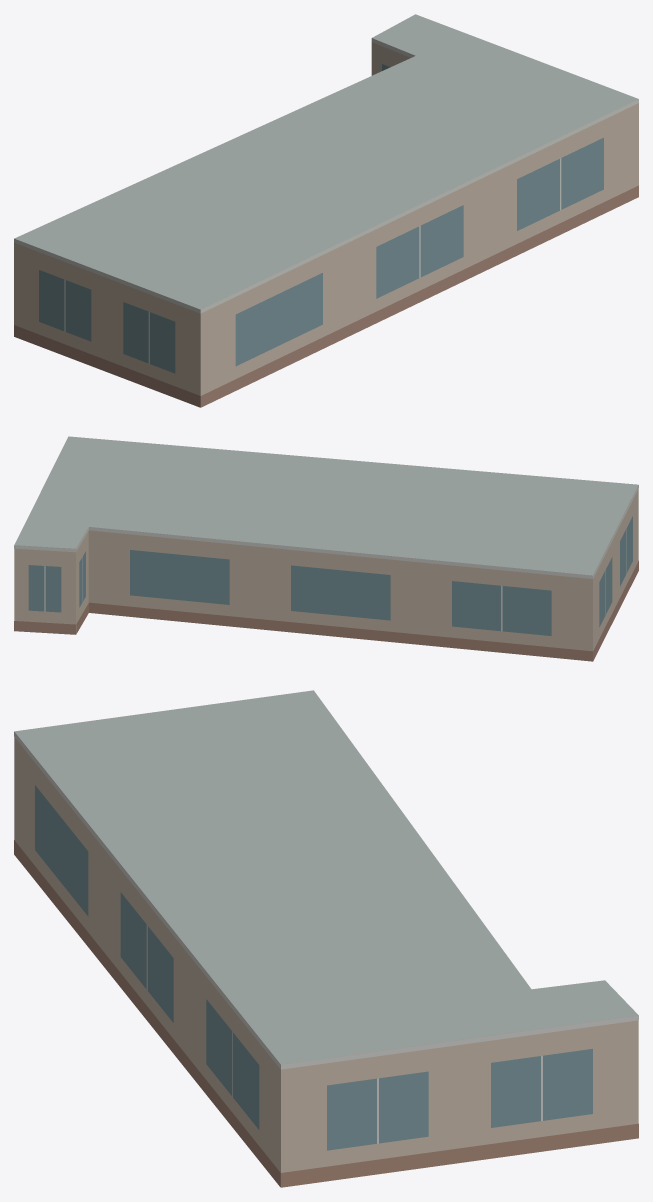
The model's file is survey-upis-32764781.glb.
3 renders of one model, top to bottom at view 1: azimuth 30°, elevation 25°; view 2: azimuth 150°, elevation 25°; view 3: azimuth 270°, elevation 25°, orthographic. The views are drawn at different scales.
Parts seen in each view (by area): view 1: survey-upis-32764781.tmp; view 2: survey-upis-32764781.tmp; view 3: survey-upis-32764781.tmp.
Part boxes in pixels (<box>): survey-upis-32764781.tmp: <box>14,14,638,407</box>; survey-upis-32764781.tmp: <box>14,436,638,661</box>; survey-upis-32764781.tmp: <box>14,690,638,1187</box>.
Bounding box in the file's own units: 19.91 × 3.05 × 14.04.
